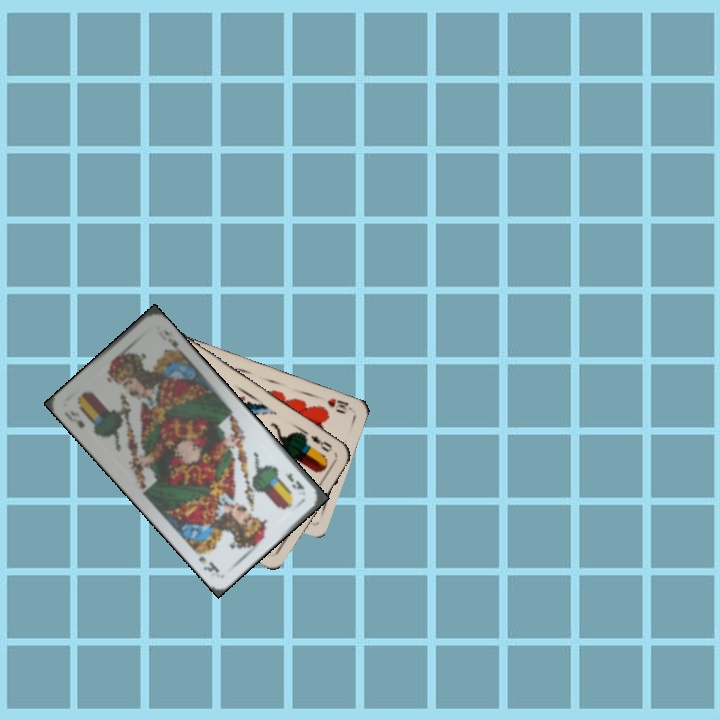EK: (60, 406, 87, 431), (283, 469, 307, 493)
EO: (306, 431, 335, 455)
H10: (323, 394, 355, 416)
